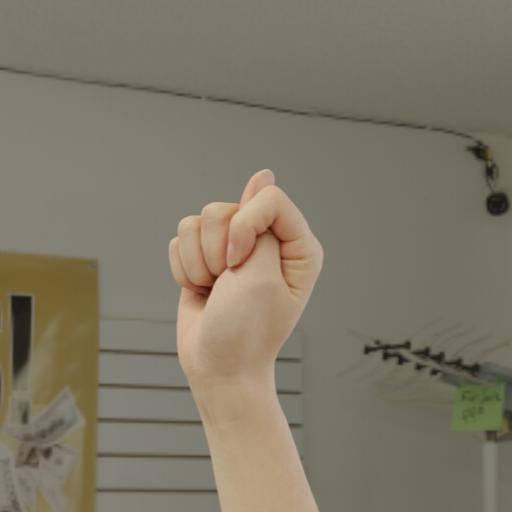T: (132, 132, 430, 417)
